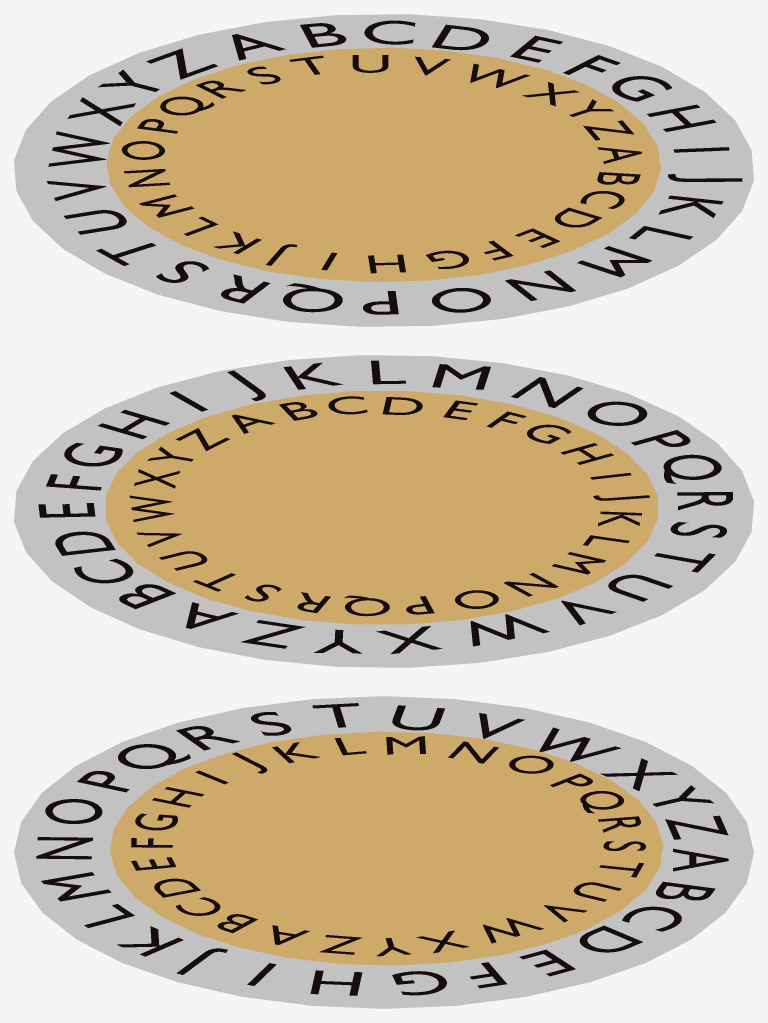
File: Caesar_Decipher_1_3.glb
3 renders of one model, top to bottom at view 1: azimuth 30°, elevation 25°; view 2: azimuth 150°, elevation 25°; view 3: azimuth 270°, elevation 25°, orthographic.
Visible parts, largest first — view 1: Circle.001, Circle, A.022, A.016, A.013, A.012, A.014, A.003, A.001, A.006, A.007; view 2: Circle.001, Circle, A.022, A.016, A.012, A.003, A.014, A.013, A.001, A.006, A.007, A.025; view 3: Circle.001, Circle, A.022, A.016, A.012, A.013, A.003, A.014, A.001, A.006, A.007.
Boxes of the visible parts, box(x1,y1,x2,y2) form: Circle.001: box(106, 47, 660, 281); Circle: box(14, 14, 753, 326); A.022: box(48, 131, 109, 166); A.016: box(283, 283, 342, 312); A.013: box(505, 270, 575, 300); A.012: box(577, 246, 651, 277); A.014: box(432, 288, 490, 312); A.003: box(432, 24, 488, 50); A.001: box(300, 23, 346, 47); A.006: box(612, 76, 671, 101); A.007: box(647, 104, 716, 131); Circle.001: box(105, 391, 657, 624); Circle: box(14, 355, 753, 667); A.022: box(470, 614, 549, 646); A.016: box(663, 454, 721, 483); A.012: box(432, 364, 490, 389); A.003: box(55, 531, 115, 555); A.014: box(587, 401, 647, 425); A.013: box(511, 377, 583, 407); A.001: box(119, 584, 175, 609); A.006: box(64, 443, 122, 466); A.007: box(98, 410, 169, 438); A.025: box(241, 620, 304, 648); Circle.001: box(110, 731, 663, 965); Circle: box(14, 696, 753, 1008); A.022: box(539, 727, 620, 761); A.016: box(118, 744, 190, 768); A.012: box(41, 872, 111, 901); A.013: box(36, 837, 92, 859); A.003: box(579, 925, 642, 952); A.014: box(45, 799, 102, 823); A.001: box(656, 881, 715, 900); A.006: box(392, 971, 446, 995); A.007: box(310, 970, 362, 995).
Bounding box in the file's own units: 2 × 0.0218 × 2.
